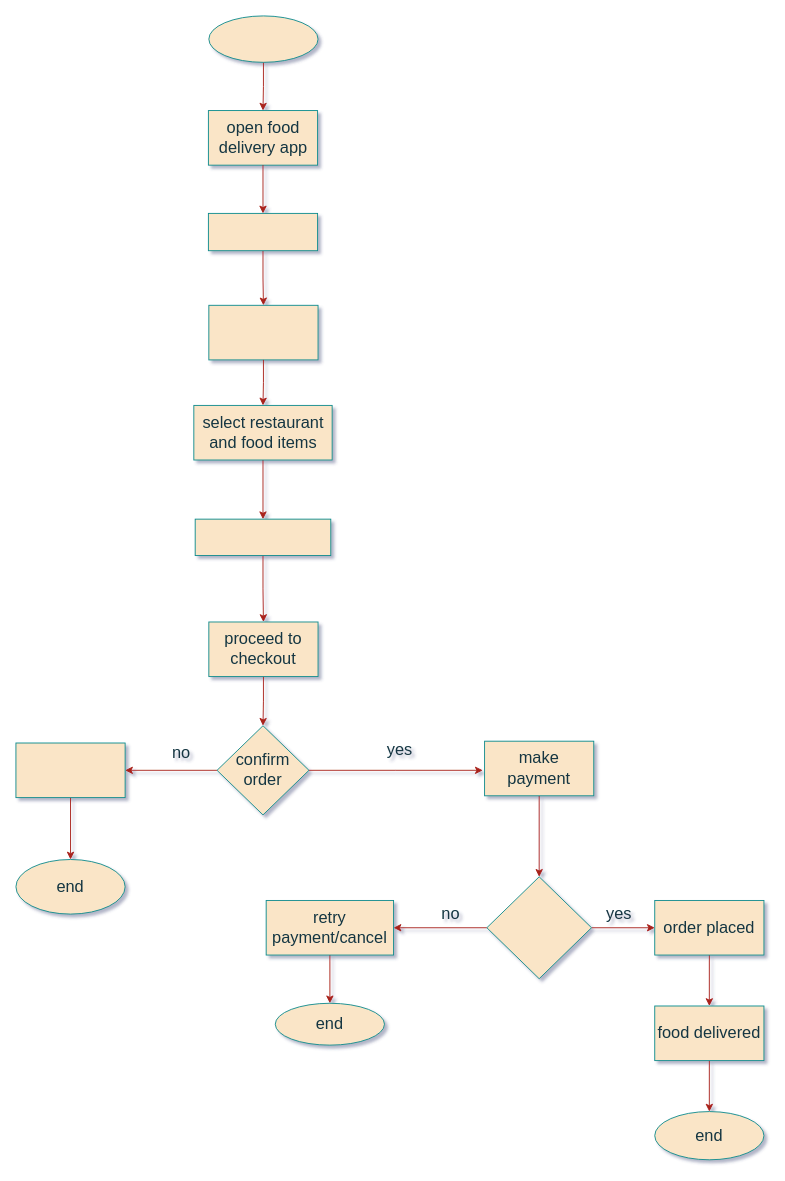
The diagram is 785 pixels wide and 1181 high, and some of its shapes have lost their labels. The shapes that lost their labels are listed below. From the top down, each one's box as (x1, y1, x2, y2) in pixels, then its label:
(208, 15, 318, 62): start
(207, 212, 318, 251): login
(208, 304, 318, 360): browse restaurants
(194, 518, 331, 556): add items to cart
(15, 742, 125, 798): cancel order
(486, 876, 592, 979): payment succesfull
